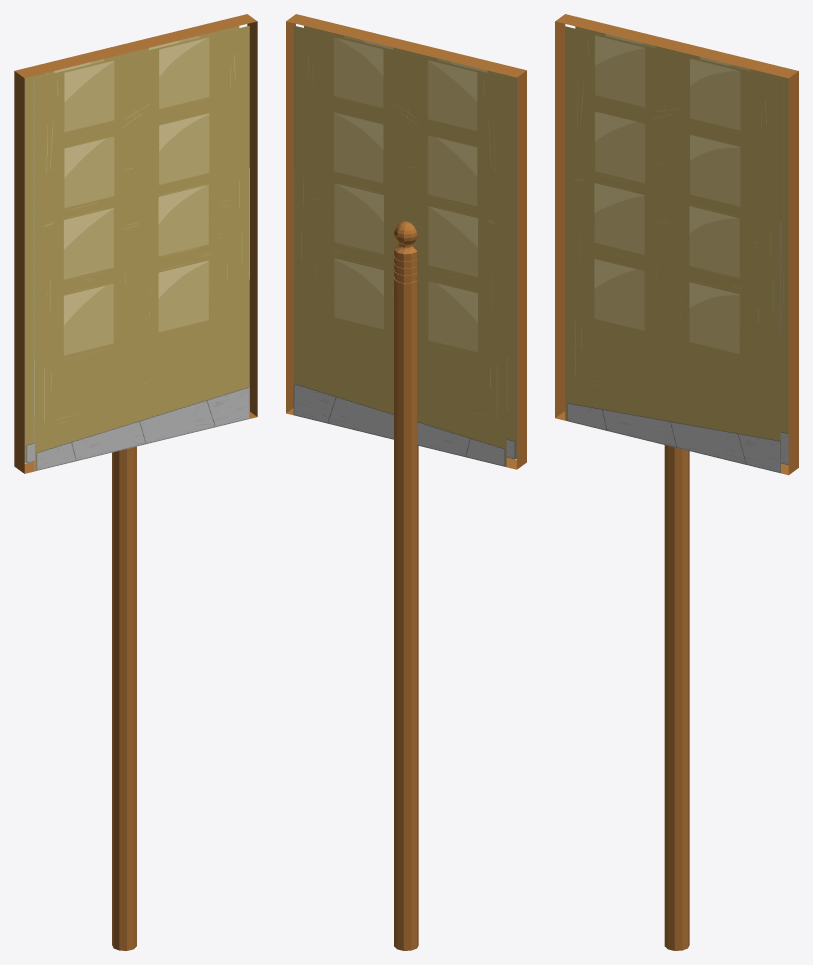
Rendered from Escena8_Banqueta.fbx.
The picture shows the model from 3 angles, left to right: view 1: azimuth 30°, elevation 25°; view 2: azimuth 150°, elevation 25°; view 3: azimuth 330°, elevation 25°; orthographic projection.
Parts seen in each view (by area): view 1: pCylinder3; view 2: pCylinder3; view 3: pCylinder3.
Part boxes in pixels (x1,y1,x2,y2): pCylinder3: (14, 14, 257, 950); pCylinder3: (286, 14, 526, 950); pCylinder3: (555, 14, 798, 950).
Size of the model in its own units: 3.58 by 13.24 by 0.4463.
